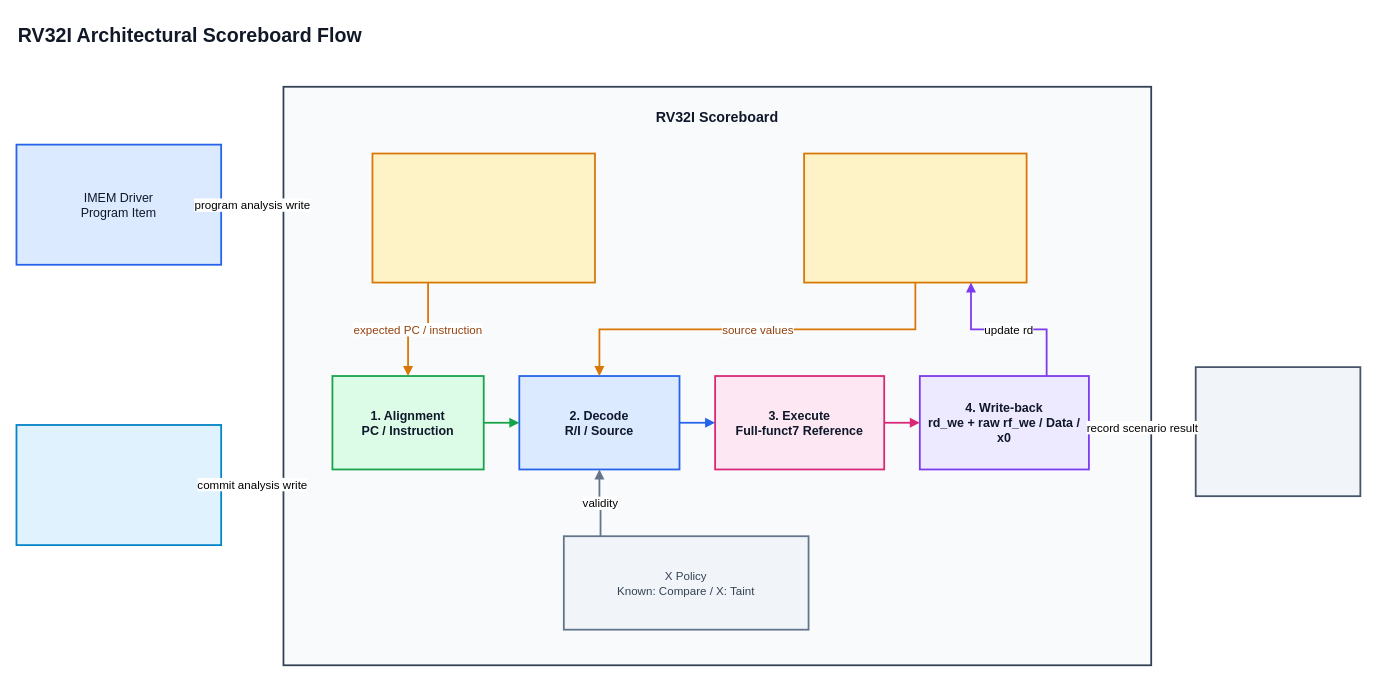
Some shapes in this 1376 by 681 pixel diagram are drawn without their labels. Each missing label, with the centre of its shape:
"Expected Program PC / Instruction" belongs at point 483,217.
"Probe Monitor Commit Item" belongs at point 118,485.
"Register Model ref_gpr / ref_valid" belongs at point 915,217.
"Scenario Result PASS / FAIL / SKIP" belongs at point 1277,431.
